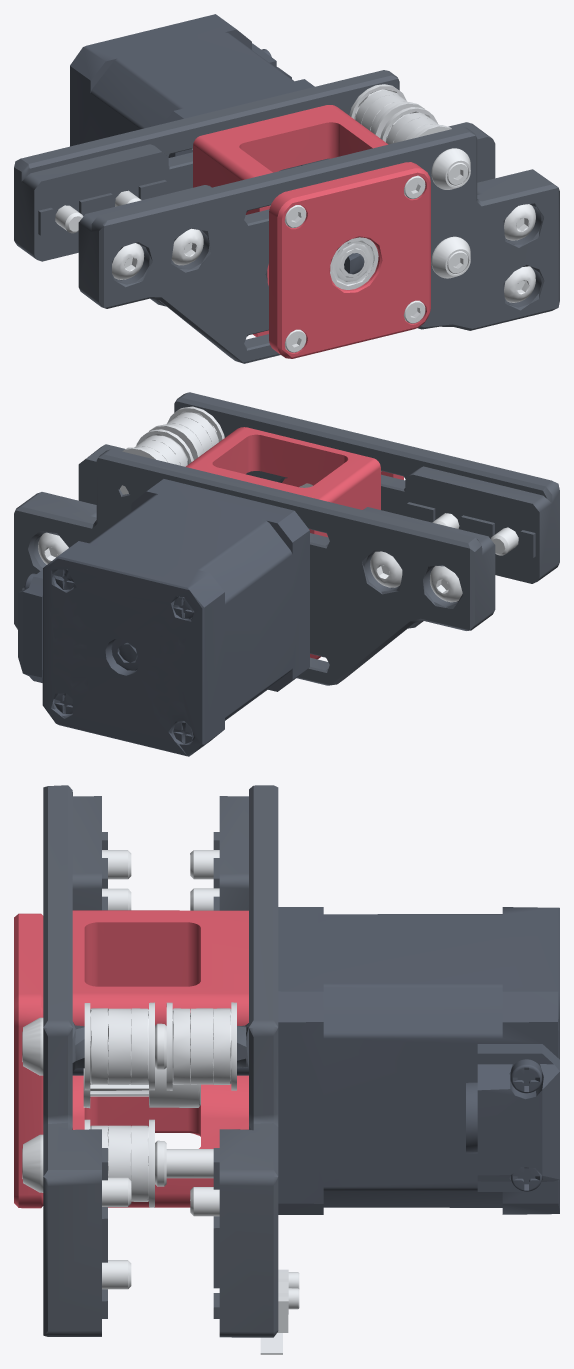
3 renders of one model, top to bottom at view 1: azimuth 30°, elevation 25°; view 2: azimuth 150°, elevation 25°; view 3: azimuth 270°, elevation 25°, orthographic. The views are drawn at different scales.
Visible parts, largest first — view 1: A电机座_1, AB电机盖, A电机座, nema17_motor_59, AB电机滑块, 轴承-F695ZZ_23, M3铝合金垫圈, M3铝合金垫圈_15, M5x12-圆头, M5x12-圆头_34, M5x12-圆头_33, M5x12-圆头_35 (+6 smaller); view 2: nema17_motor_59, A电机座, A电机座_1, AB电机滑块, M5x12-圆头_37, M5x12-圆头_36, 轴承-F695ZZ_6, 轴承-F695ZZ_9, M5x12-圆头_40, 轴承-F695ZZ, M5x12-圆头, 轴承-695ZZ; view 3: nema17_motor_59, A电机座, A电机座_1, AB电机滑块, AB电机盖, 同步轮2GT-9-20T, 轴承-F695ZZ_9, 非标轴承柱_10, 轴承-F695ZZ_6, 轴承-F695ZZ_7, 轴承-F695ZZ, 轴承-F695ZZ_13 (+12 smaller).
Part boxes in pixels (x1=…): A电机座_1: x1=78, y1=127, x2=559, y2=363; AB电机盖: x1=269, y1=162, x2=430, y2=358; A电机座: x1=14, y1=70, x2=495, y2=306; nema17_motor_59: x1=70, y1=14, x2=364, y2=274; AB电机滑块: x1=193, y1=105, x2=388, y2=336; 轴承-F695ZZ_23: x1=330, y1=237, x2=378, y2=289; M3铝合金垫圈: x1=431, y1=236, x2=470, y2=278; M3铝合金垫圈_15: x1=431, y1=148, x2=470, y2=189; M5x12-圆头: x1=112, y1=243, x2=144, y2=279; M5x12-圆头_34: x1=504, y1=204, x2=535, y2=240; M5x12-圆头_33: x1=171, y1=228, x2=203, y2=265; M5x12-圆头_35: x1=504, y1=266, x2=535, y2=302; nema17_motor_59: x1=18, y1=479, x2=309, y2=756; A电机座: x1=14, y1=449, x2=495, y2=685; A电机座_1: x1=78, y1=392, x2=559, y2=628; AB电机滑块: x1=185, y1=427, x2=380, y2=659; M5x12-圆头_37: x1=370, y1=551, x2=402, y2=587; M5x12-圆头_36: x1=430, y1=566, x2=462, y2=602; 轴承-F695ZZ_6: x1=167, y1=406, x2=224, y2=446; 轴承-F695ZZ_9: x1=136, y1=429, x2=193, y2=466; M5x12-圆头_40: x1=38, y1=532, x2=68, y2=564; 轴承-F695ZZ: x1=149, y1=423, x2=203, y2=460; M5x12-圆头: x1=490, y1=527, x2=518, y2=555; 轴承-695ZZ: x1=166, y1=417, x2=212, y2=452; nema17_motor_59: x1=72, y1=907, x2=559, y2=1214; A电机座: x1=213, y1=785, x2=278, y2=1337; A电机座_1: x1=43, y1=785, x2=107, y2=1336; AB电机滑块: x1=72, y1=910, x2=248, y2=1207; AB电机盖: x1=14, y1=913, x2=43, y2=1208; 同步轮2GT-9-20T: x1=83, y1=1068, x2=200, y2=1108; 轴承-F695ZZ_9: x1=166, y1=1002, x2=190, y2=1090; 非标轴承柱_10: x1=155, y1=1140, x2=213, y2=1186; 轴承-F695ZZ_6: x1=84, y1=1003, x2=107, y2=1090; 轴承-F695ZZ_7: x1=213, y1=1002, x2=236, y2=1090; 轴承-F695ZZ: x1=131, y1=1002, x2=154, y2=1090; 轴承-F695ZZ_13: x1=131, y1=1119, x2=154, y2=1207.
Bounding box in the file's own units: 0.12 × 0.0535 × 0.093.
